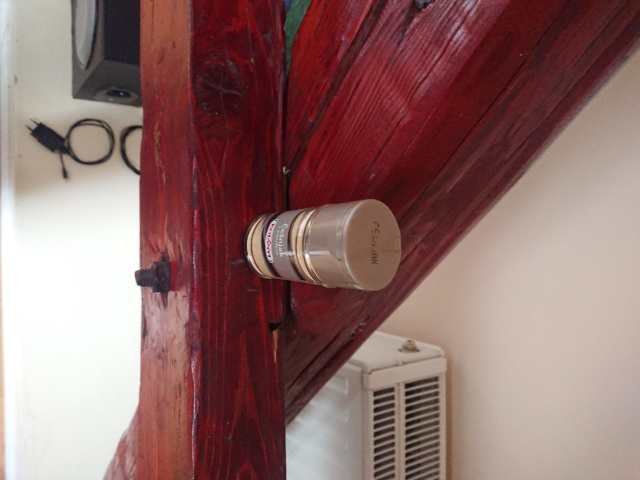Kotanyi Garlic Granules 70g: (238, 195, 404, 294)
